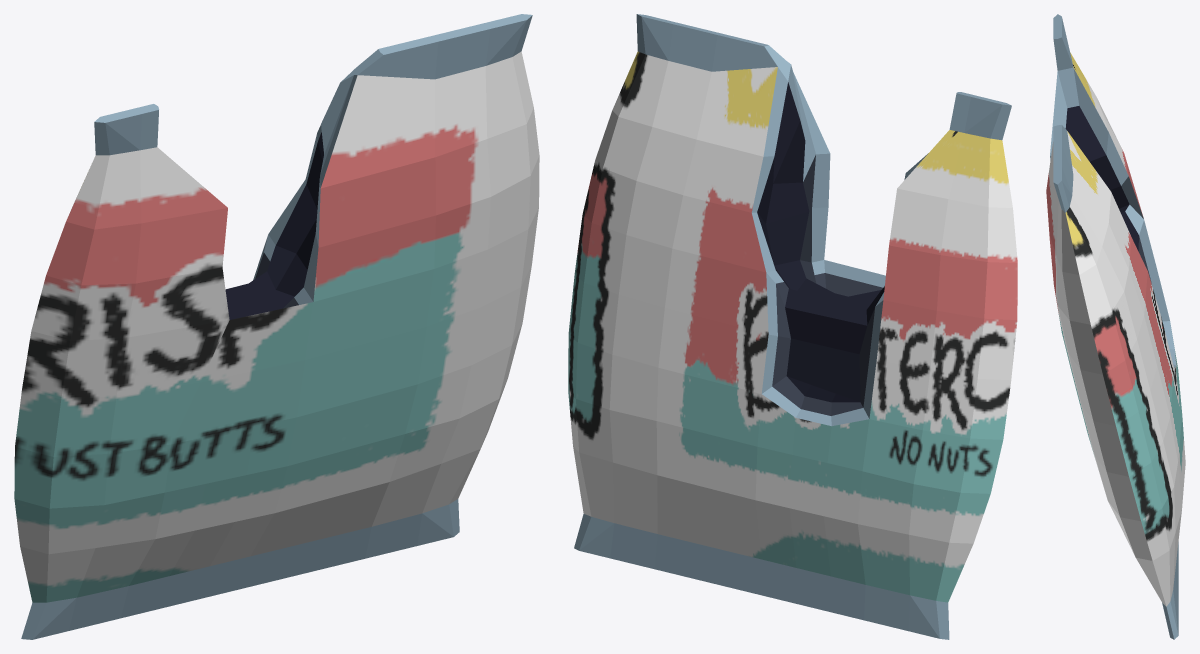
File: JunkWrapper.CocoaN.fbx
The picture shows the model from 3 angles, left to right: view 1: azimuth 30°, elevation 25°; view 2: azimuth 150°, elevation 25°; view 3: azimuth 270°, elevation 25°; orthographic projection. The views are drawn at different scales.
Visible parts, largest first — view 1: JunkWrapper.CocoaN; view 2: JunkWrapper.CocoaN; view 3: JunkWrapper.CocoaN.
Boxes of the visible parts, x1,y1,x2,y2 form: JunkWrapper.CocoaN: (14,14,539,639); JunkWrapper.CocoaN: (568,14,1017,639); JunkWrapper.CocoaN: (1046,14,1185,639).
Bounding box in the file's own units: 116 × 125 × 34.44.
